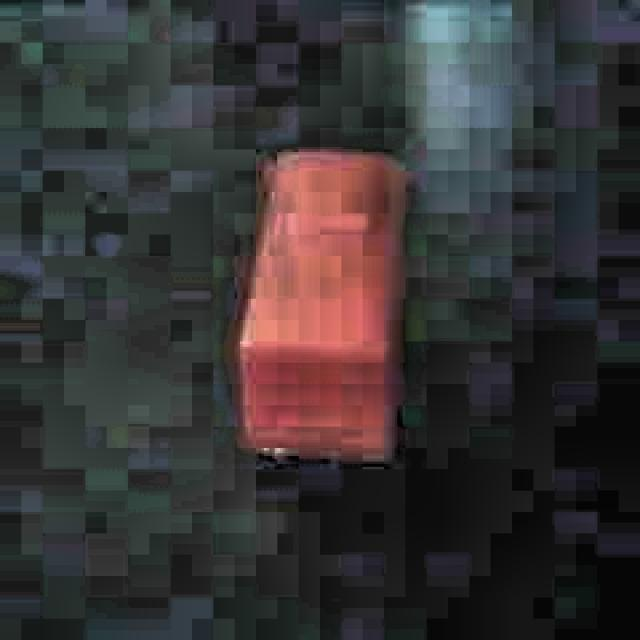bus: (230, 139, 408, 473)
